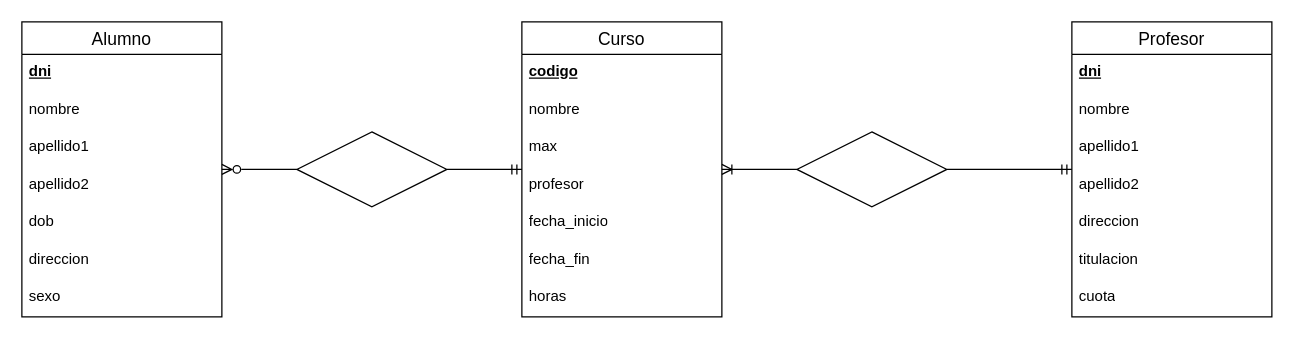
Image size: 1294x343. Some labels were removed from this diagram. The shapes that lost their labels are listed below. From the top down, each one's centre as x and y in pixels, then its label:
At (371,169): "matricula".
At (871,169): "imparte".
